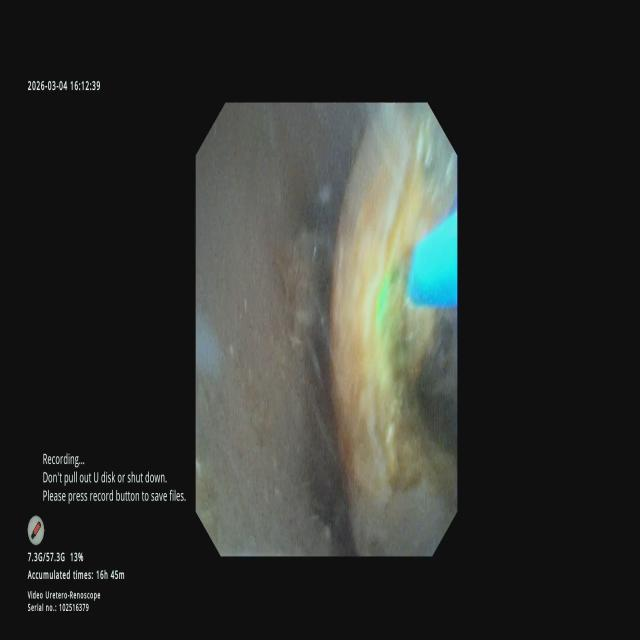laser_dot: (376, 274, 394, 325)
stone-new: (330, 103, 457, 555)
